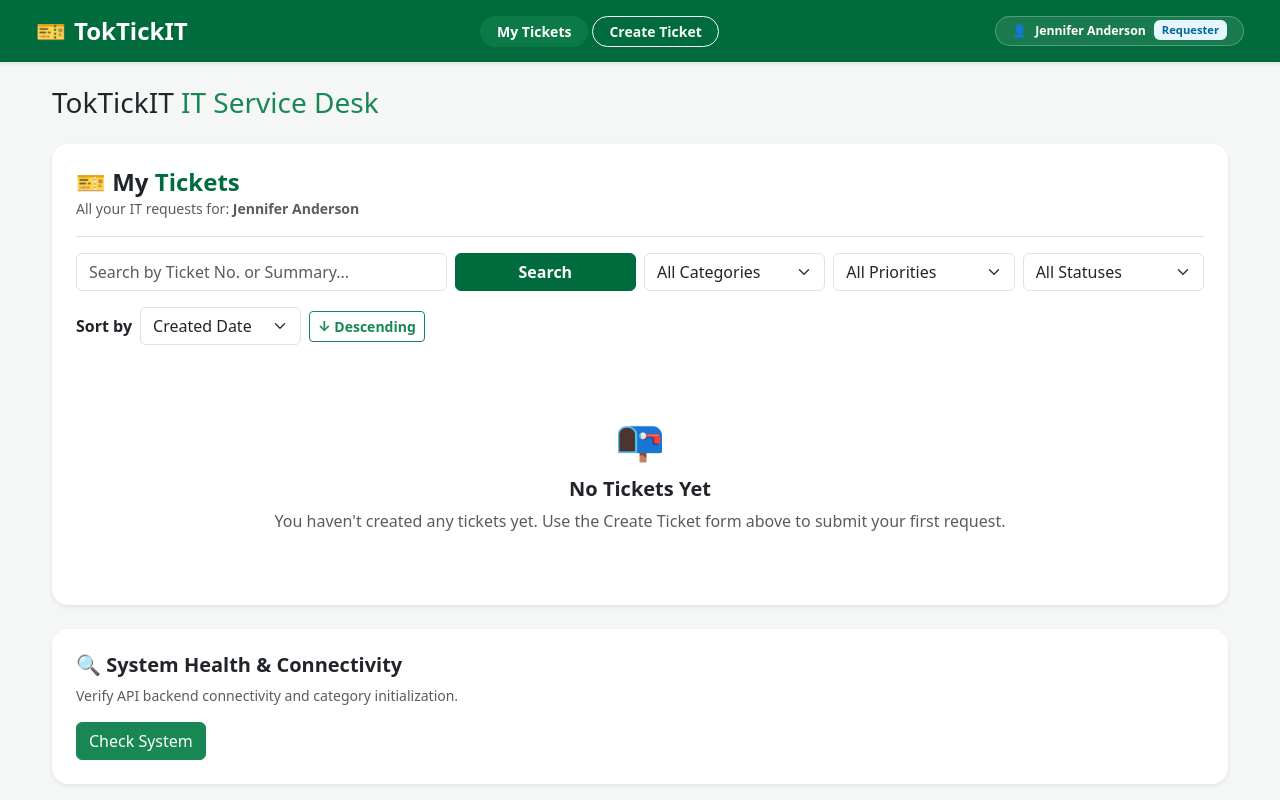
Auth-03: Header, Navigation & Logout › Auth-03e: Change Password from user menu opens the embedded change password form
Expected: the text with test id "header-user-name" is shown, 1035,22 -> 1146,40
Click the button with test id "header-user-menu": (1120, 31) 995,16 -> 1244,46
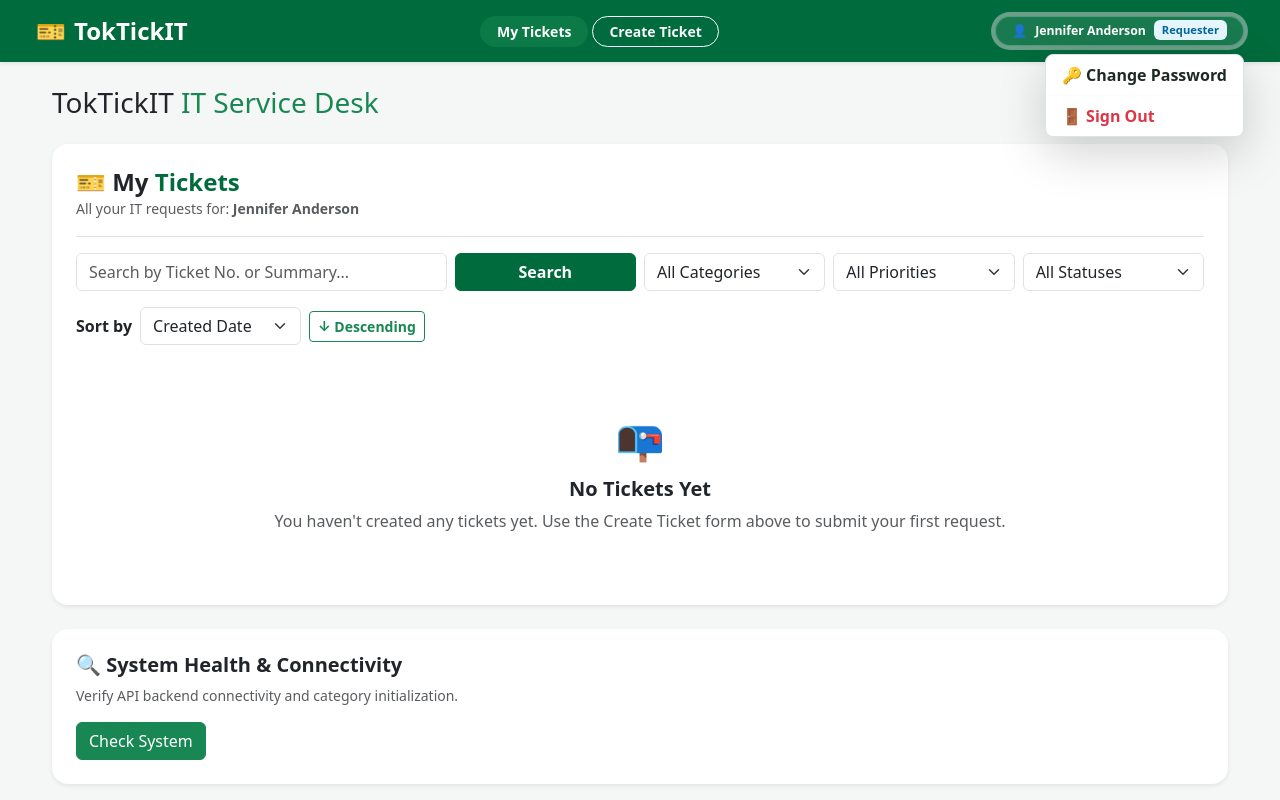
Click the button with test id "header-change-password-trigger": (1144, 75) 1046,55 -> 1243,95
(page scrolled)
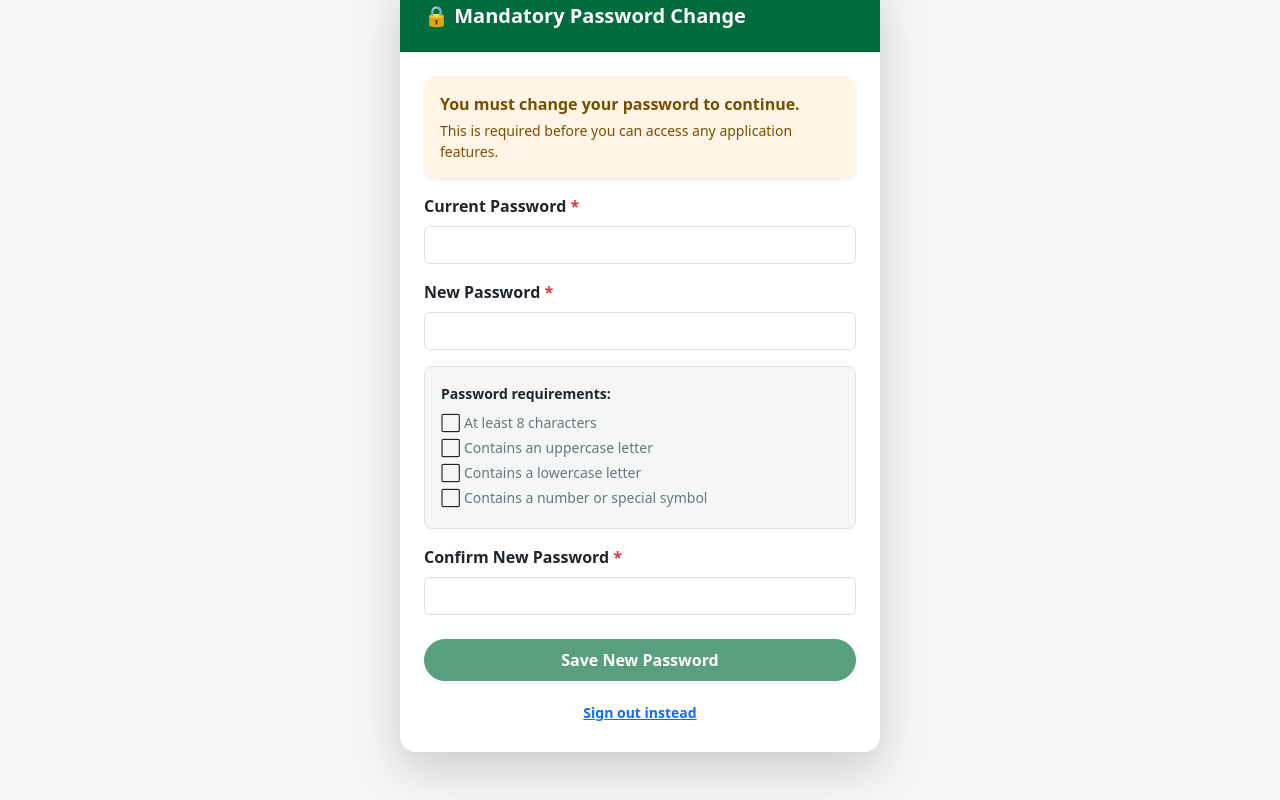
Expected: the text "Current Password *" is shown, 424,194 -> 579,218
Expected: the button with test id "change-password-submit" is disabled, 424,639 -> 856,681
